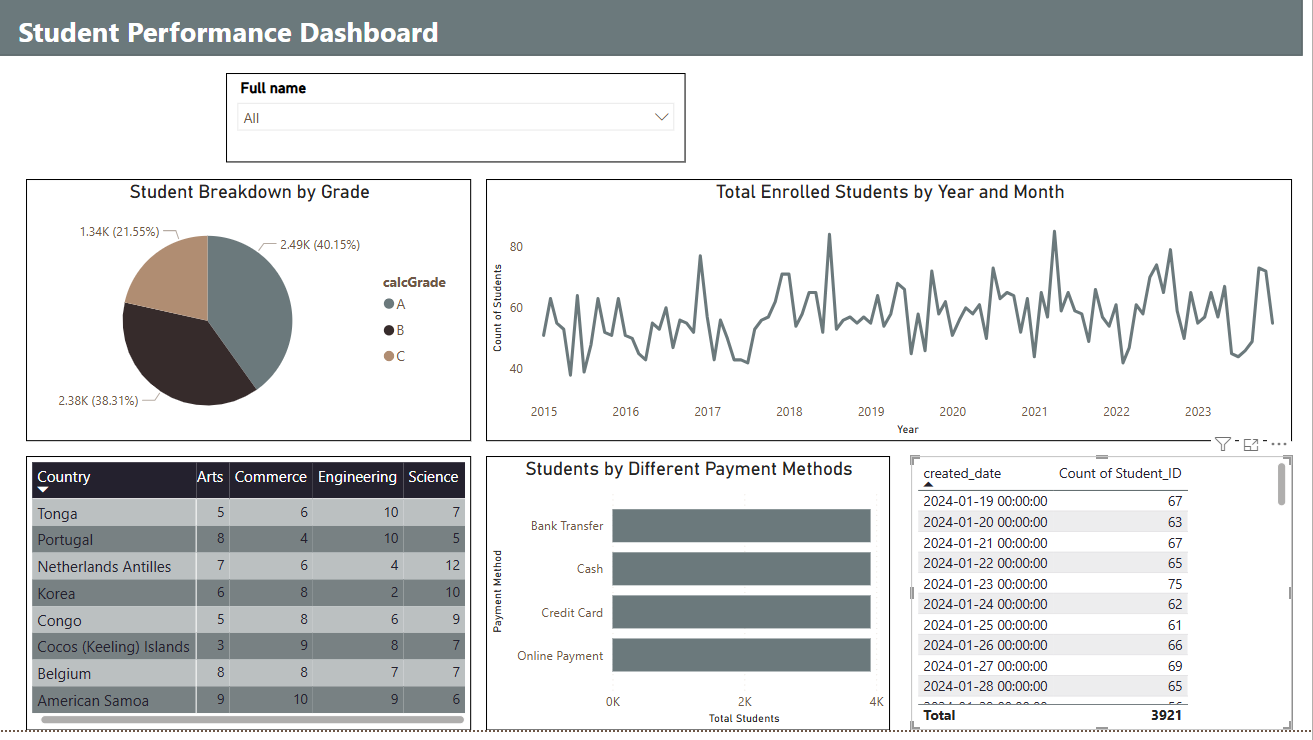

The dashboard page shown, as its layout file describes it:
{"tool":"powerbi","page":{"name":"Page 1","canvas":[1280,720],"ordinal":0},"visuals":[{"type":"shape","box":[0,0,1270.9,63.9],"z":0},{"type":"textbox","box":[16.2,16.2,655.2,47.7],"z":1000},{"type":"pieChart","title":"Student Breakdown by Grade","fields":{"Y":["mydatabase exams_data.Student_ID"],"Category":["mydatabase exams_data.calcGrade"]},"box":[29.4,183.6,433.1,254.6],"z":2000},{"type":"lineChart","title":"Total Enrolled Students by Year and Month","fields":{"Category":["mydatabase student_data.Enrollment_Date.Variation.Date Hierarchy.Year","mydatabase student_data.Enrollment_Date.Variation.Date Hierarchy.Month"],"Y":["mydatabase exams_data.Student_ID"]},"box":[476.7,183.6,784,254.6],"z":3000},{"type":"pivotTable","fields":{"Rows":["mydatabase student_data.Student_Country"],"Columns":["mydatabase student_data.Department"],"Values":["mydatabase exams_data.Student_ID"]},"box":[29.4,453.4,433.1,266.8],"z":4000},{"type":"barChart","title":"Students by Different Payment Methods","fields":{"Category":["mydatabase payments_data.Payment_Method"],"Y":["mydatabase library_data.Student_ID"]},"box":[476.7,453.4,392.5,266.8],"z":5000},{"type":"slicer","fields":{"Values":["mydatabase student_data.Full name"]},"box":[224.2,81.1,447.3,87.2],"z":6000},{"type":"tableEx","fields":{"Values":["mydatabase student_data.created_date","mydatabase exams_data.Student_ID"]},"box":[889.5,453.4,371.2,266.8],"z":7000}]}

Visuals, with their boxes in screenshot pixels (x1, y1, x2, y2), scaled from the page's 1280x720 canvas onto the 1313x740 screenshot:
shape: (0, 0, 1304, 66)
textbox: (17, 17, 689, 66)
"Student Breakdown by Grade" pieChart: (30, 189, 474, 450)
"Total Enrolled Students by Year and Month" lineChart: (489, 189, 1293, 450)
pivotTable - mydatabase student_data.Student_Country x mydatabase student_data.Department: (30, 466, 474, 739)
"Students by Different Payment Methods" barChart: (489, 466, 892, 739)
slicer - mydatabase student_data.Full name: (230, 83, 689, 173)
tableEx - mydatabase student_data.created_date x mydatabase exams_data.Student_ID: (912, 466, 1293, 739)
